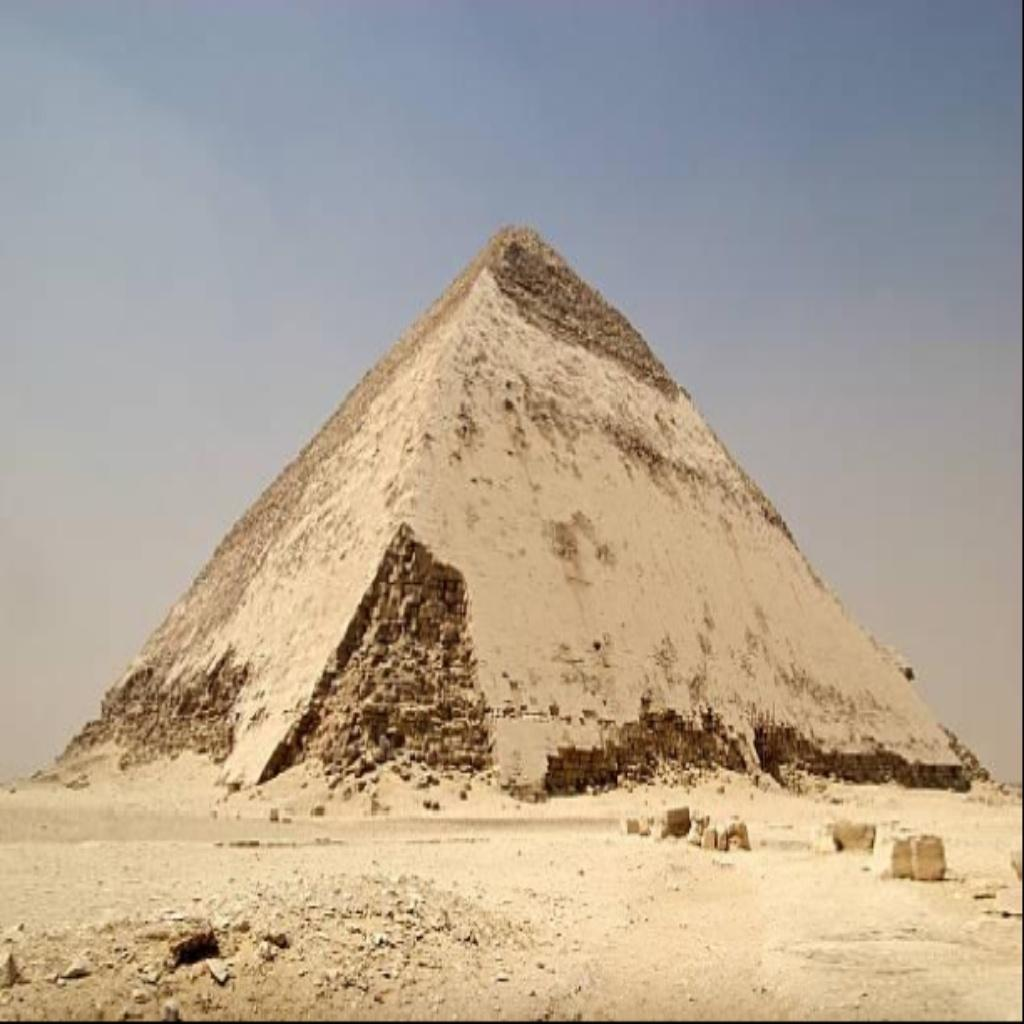Bent Pyramid of King Sneferu: (38, 218, 990, 800)
